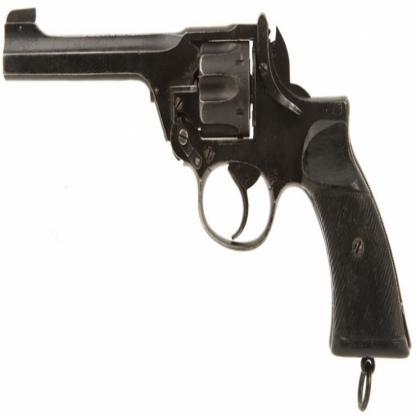gun: (1, 6, 414, 384)
